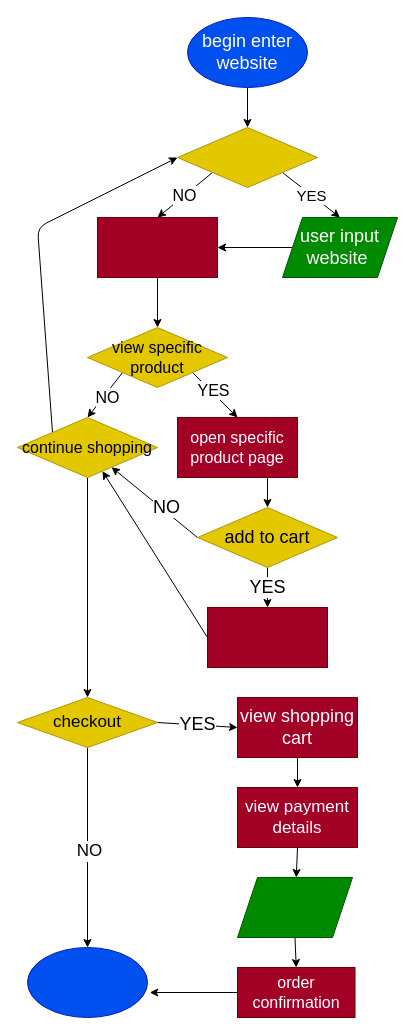
Some shapes in this 415 by 1035 pixel diagram are drawn without their labels. Each missing label, with the box of its shape:
add to cart confirmation: (206, 606, 328, 668)
finish: (26, 946, 148, 1018)
payment information: (236, 876, 352, 938)
search: (176, 126, 318, 188)
user look over product: (96, 216, 218, 278)
